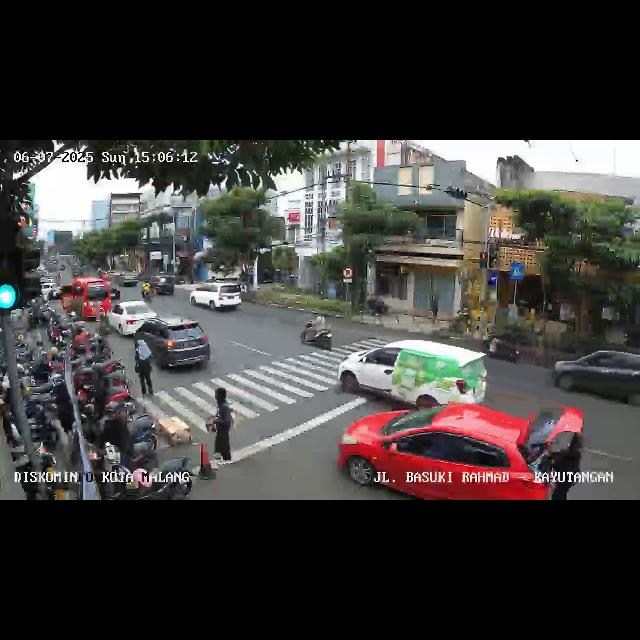car: (337, 402, 585, 500), (338, 334, 487, 412), (555, 346, 639, 410), (138, 318, 212, 376), (59, 279, 109, 321), (188, 280, 242, 314), (105, 302, 158, 336), (144, 274, 176, 298), (117, 270, 141, 286)
motorcycle: (484, 322, 542, 368), (299, 313, 333, 353), (110, 284, 122, 308), (141, 279, 153, 301)
person: (209, 391, 235, 474), (132, 335, 156, 397)
